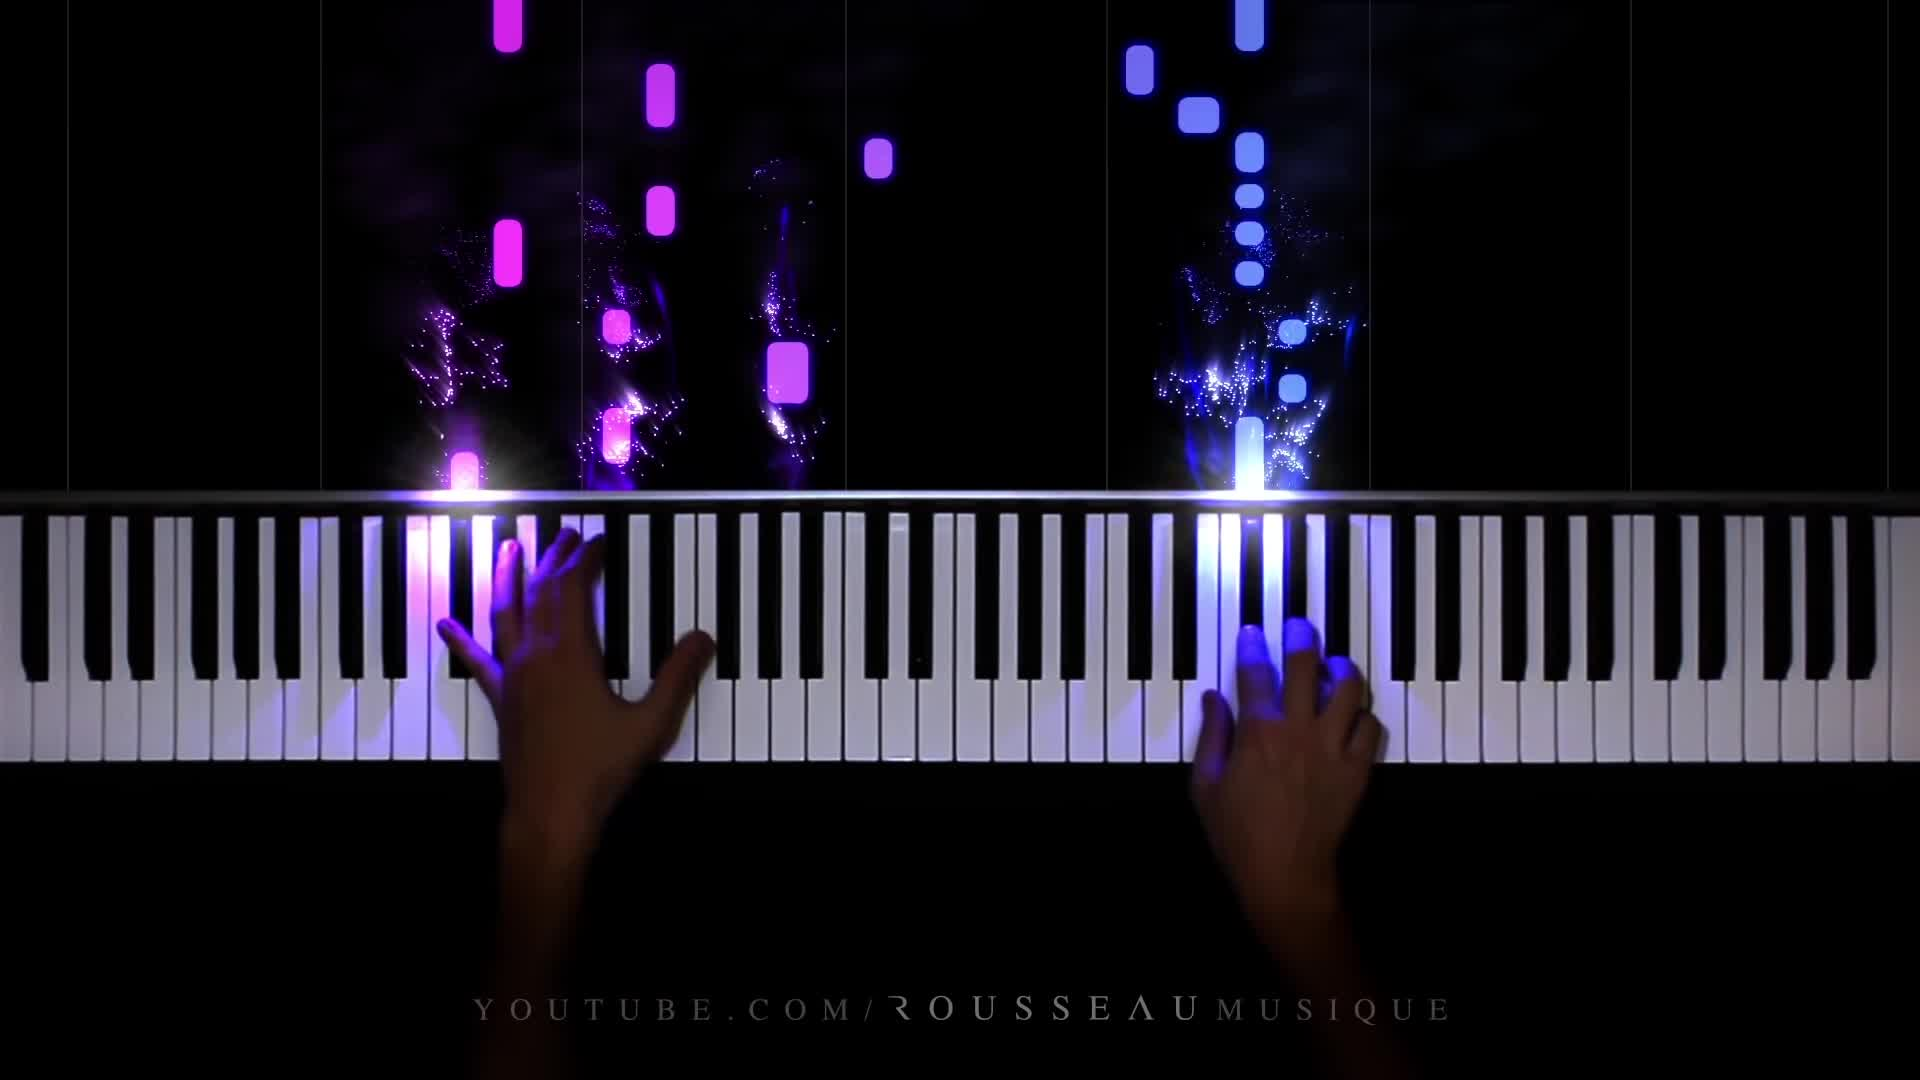left: (440, 522, 716, 804)
right: (1185, 613, 1390, 870)
